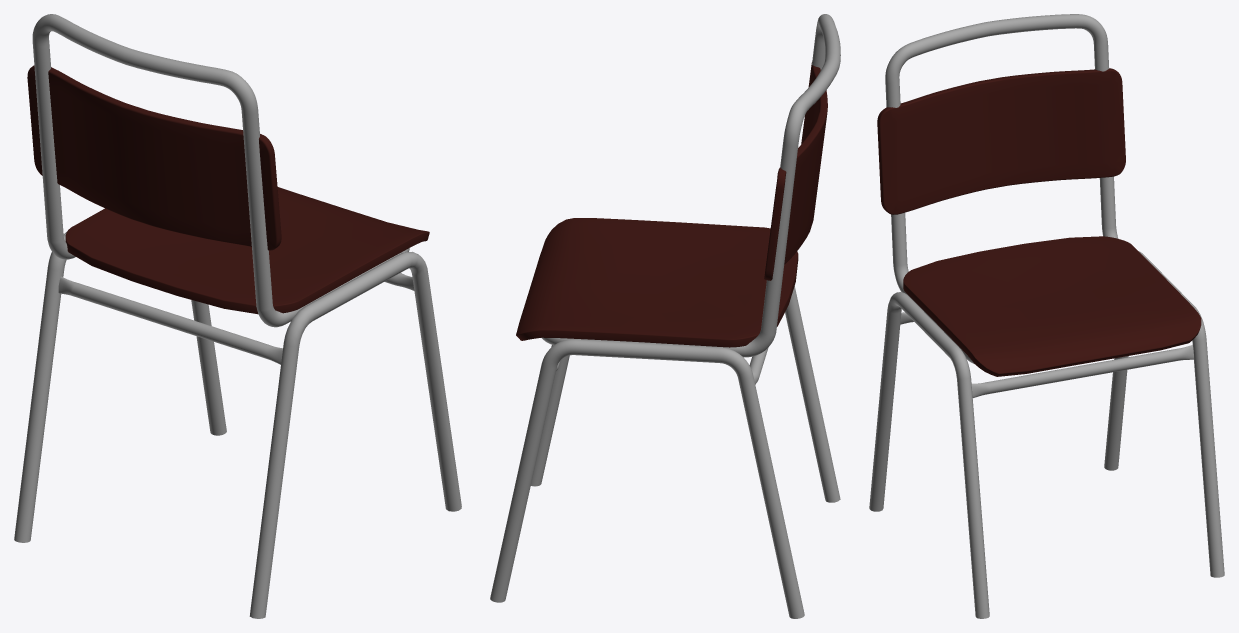
Rendered from SillaSM_dePie.fbx.
3 views of the same model, side by side, from view 1: azimuth 30°, elevation 25°; view 2: azimuth 150°, elevation 25°; view 3: azimuth 270°, elevation 25° (orthographic). The views are drawn at different scales.
Visible parts, largest first — view 1: Silla_09; view 2: Silla_09; view 3: Silla_09.
Part boxes in pixels (bbox=[...]): Silla_09: bbox=[14, 14, 461, 618]; Silla_09: bbox=[490, 14, 840, 618]; Silla_09: bbox=[869, 14, 1224, 618].
Size of the model in its own units: 183 by 253 by 177.
